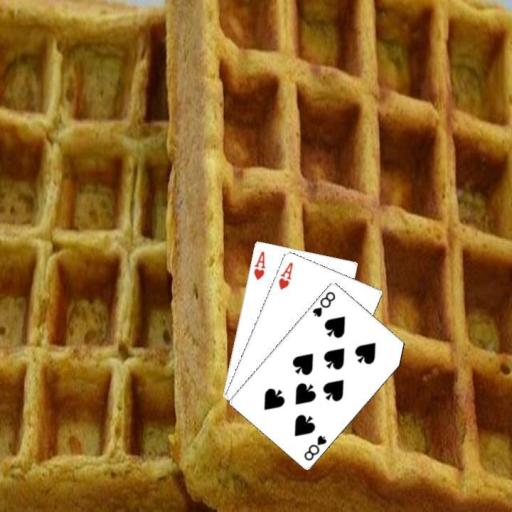8S: (309, 288, 337, 319), (301, 432, 328, 462)
AH: (276, 259, 295, 291), (250, 247, 267, 281)
